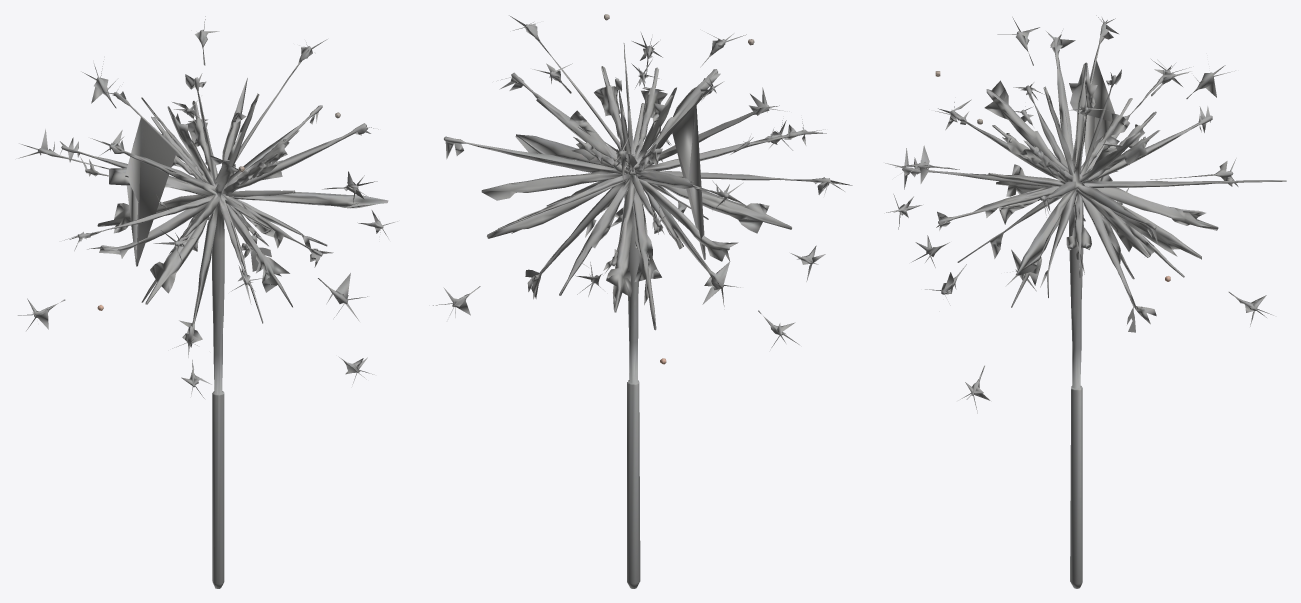
File: r33-sparkler.glb
3 renders of one model, left to right at view 1: azimuth 30°, elevation 25°; view 2: azimuth 150°, elevation 25°; view 3: azimuth 270°, elevation 25°, orthographic. The views are drawn at different scales.
Visible parts, largest first — view 1: tripo_node_f2257990-6e98-4576-8a08-f91a26bd3fab; view 2: tripo_node_f2257990-6e98-4576-8a08-f91a26bd3fab; view 3: tripo_node_f2257990-6e98-4576-8a08-f91a26bd3fab.
Part boxes in pixels (left/top/right/bottom): tripo_node_f2257990-6e98-4576-8a08-f91a26bd3fab: left=18, top=16, right=397, bottom=588; tripo_node_f2257990-6e98-4576-8a08-f91a26bd3fab: left=433, top=14, right=852, bottom=588; tripo_node_f2257990-6e98-4576-8a08-f91a26bd3fab: left=885, top=15, right=1286, bottom=588.
Bounding box in the file's own units: 0.666 × 0.998 × 0.6816.
1 material, 1 textured.
